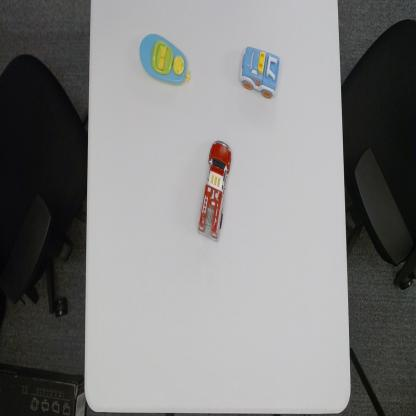Boat: (138, 31, 192, 87)
Car: (239, 42, 280, 102)
Firetruck: (196, 138, 233, 243)
